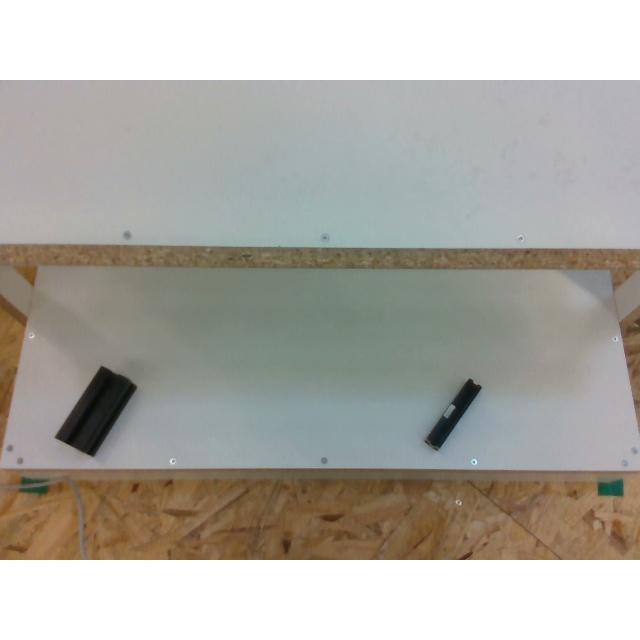F20_20_B: (424, 378, 480, 450)
S40_40_B: (55, 366, 135, 454)
